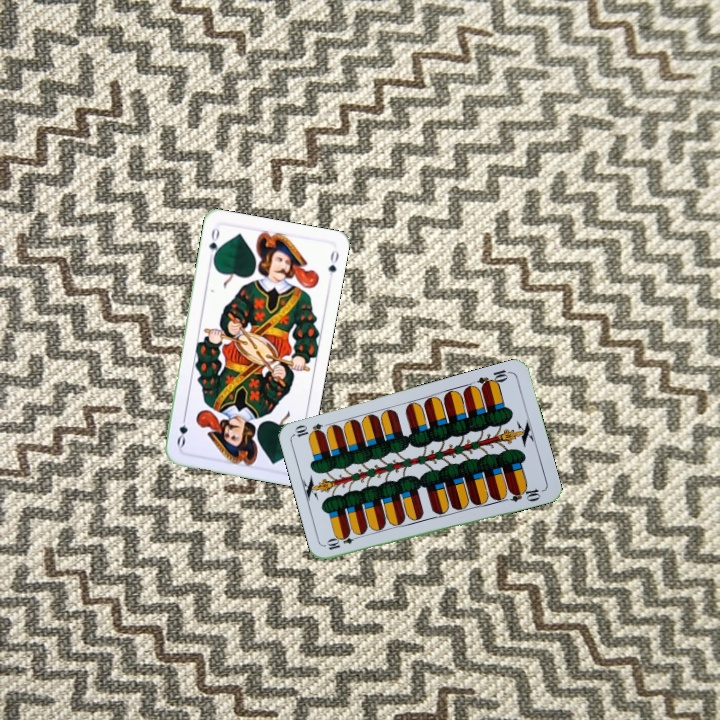E10: (473, 365, 513, 391), (323, 530, 363, 553)
GO: (205, 224, 222, 264)
